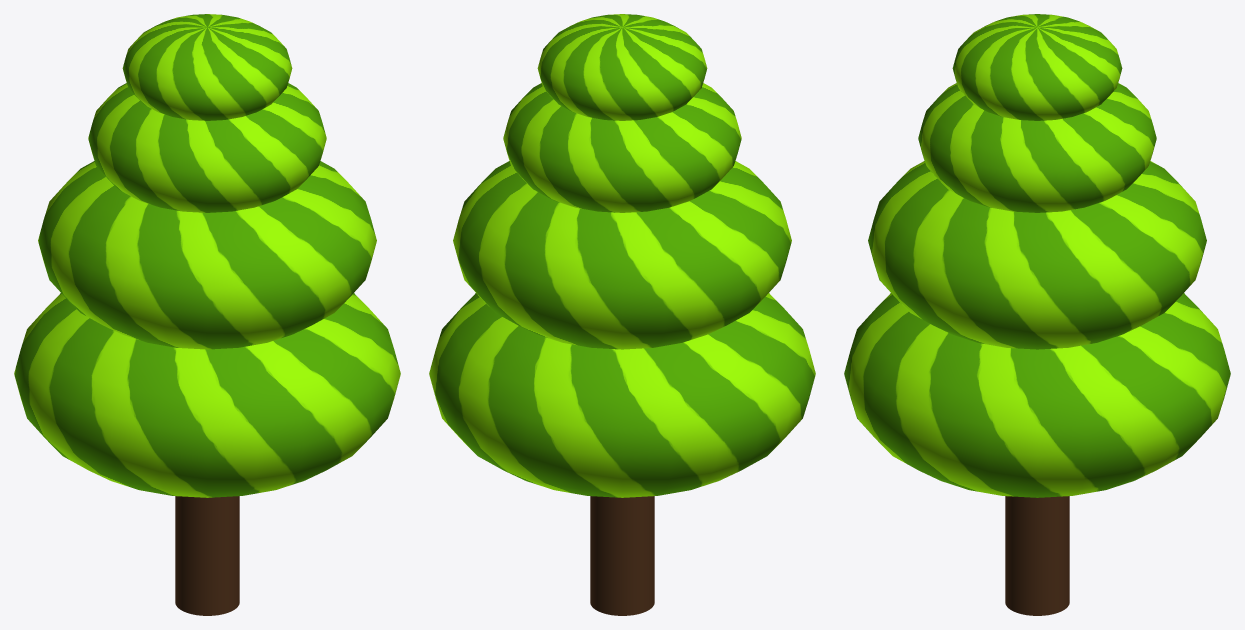
File: Moo Moo Farm Tree.dae
The picture shows the model from 3 angles, left to right: view 1: azimuth 30°, elevation 25°; view 2: azimuth 150°, elevation 25°; view 3: azimuth 270°, elevation 25°; orthographic projection.
Parts seen in each view (by area): view 1: Sphere, Cylinder; view 2: Sphere, Cylinder; view 3: Sphere, Cylinder.
Part boxes in pixels (bbox=[...]): Sphere: bbox=[14, 14, 400, 497]; Cylinder: bbox=[175, 496, 239, 615]; Sphere: bbox=[429, 14, 815, 497]; Cylinder: bbox=[590, 496, 654, 615]; Sphere: bbox=[844, 14, 1230, 497]; Cylinder: bbox=[1005, 496, 1069, 615].
Size of the model in its own units: 57 by 93.5 by 57.
Materials: 2 (2 with a texture image).
